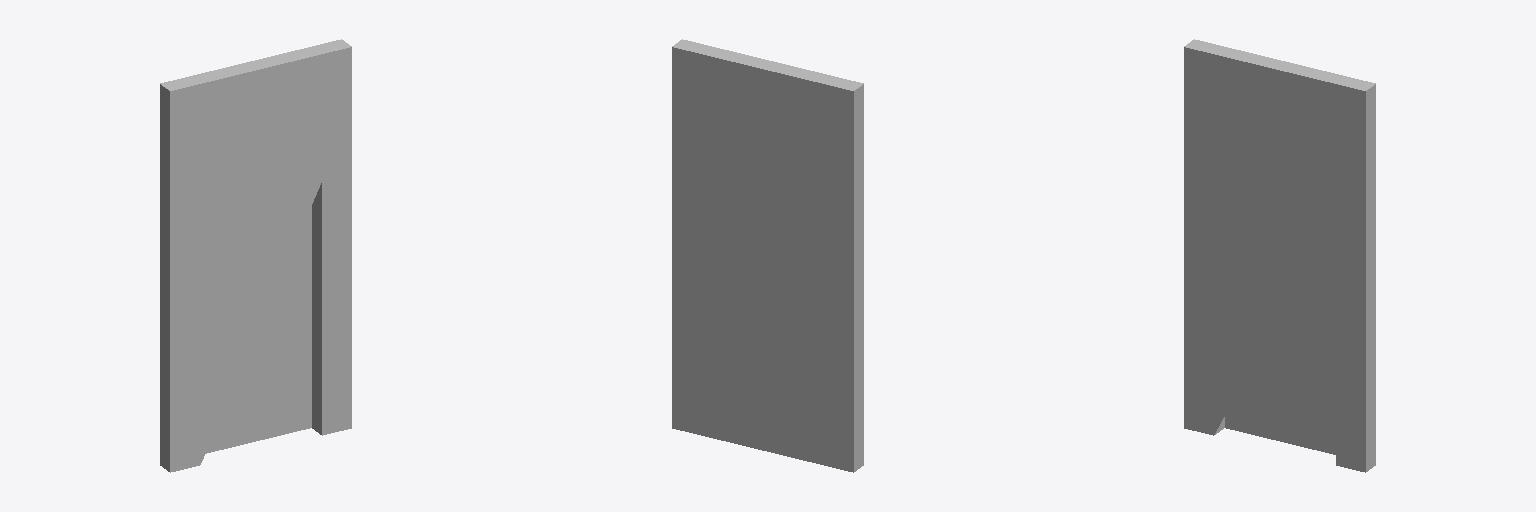
Rendered from mur v5.obj.
3 renders of one model, left to right at view 1: azimuth 30°, elevation 25°; view 2: azimuth 150°, elevation 25°; view 3: azimuth 330°, elevation 25°, orthographic.
Visible parts, largest first — view 1: Mesh1 G_1 Model; view 2: Mesh1 G_1 Model; view 3: Mesh1 G_1 Model.
Part boxes in pixels (x1,y1,x2,y2): Mesh1 G_1 Model: (160,39,351,472); Mesh1 G_1 Model: (672,39,863,472); Mesh1 G_1 Model: (1184,39,1375,472).
Bounding box in the file's own units: 1.5 × 3 × 0.15.